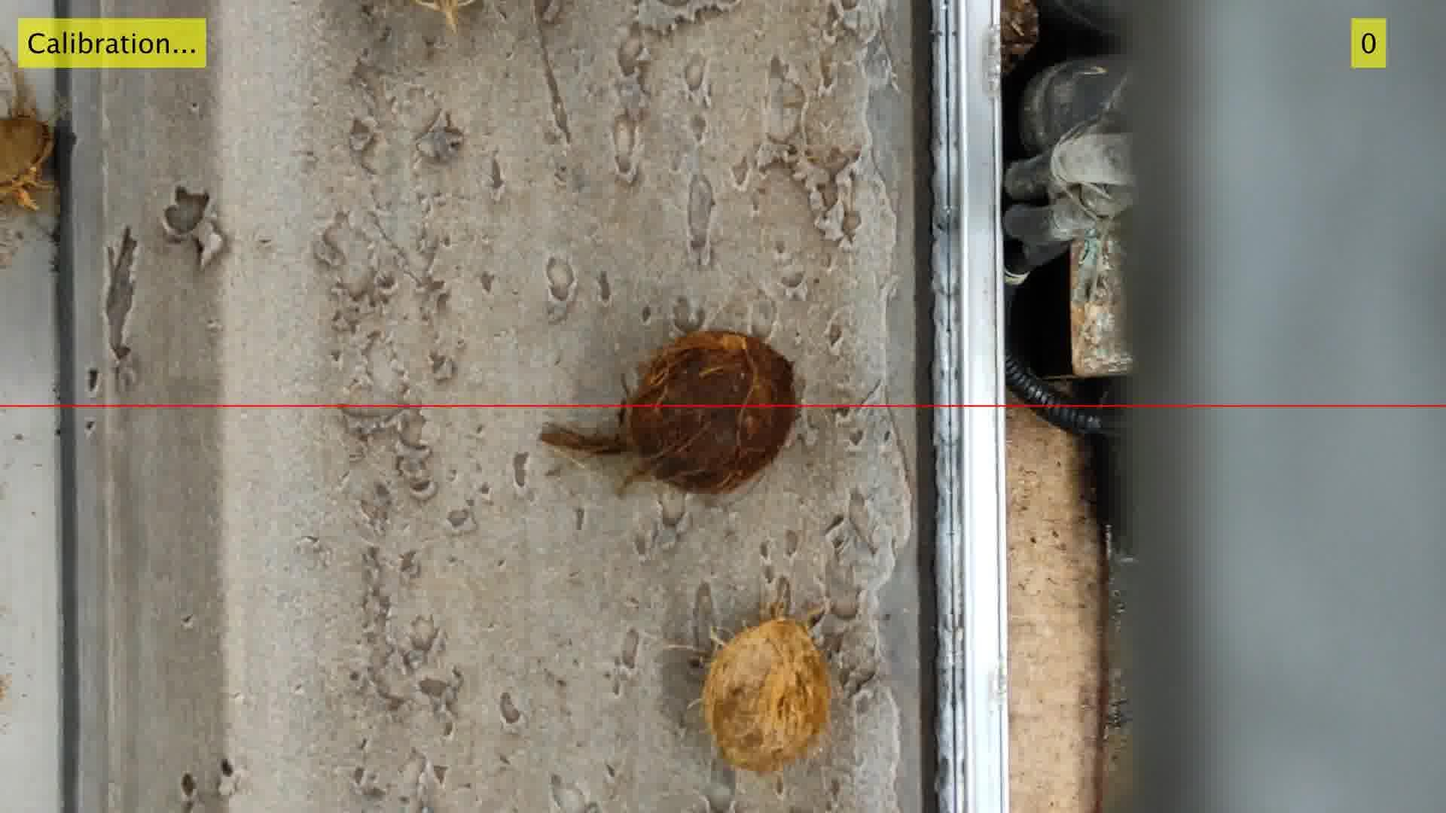Coconut: (619, 327, 816, 504), (700, 601, 834, 774), (0, 48, 66, 210), (412, 0, 476, 32)
